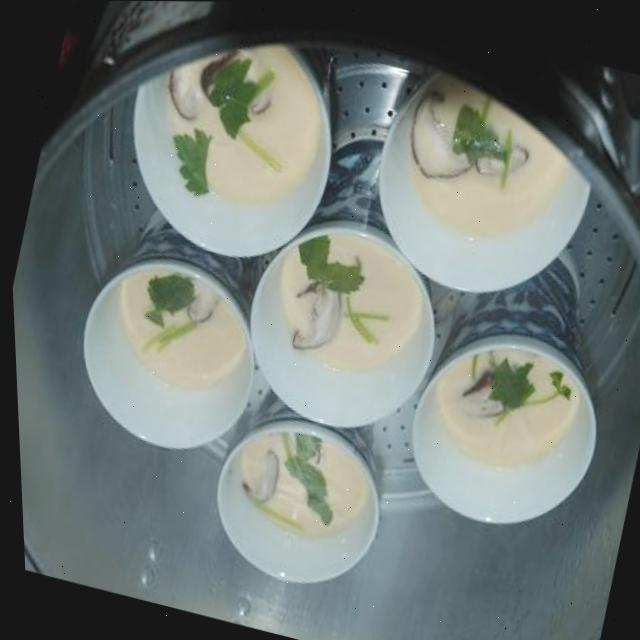鸡蛋料理: (319, 8, 555, 308)
